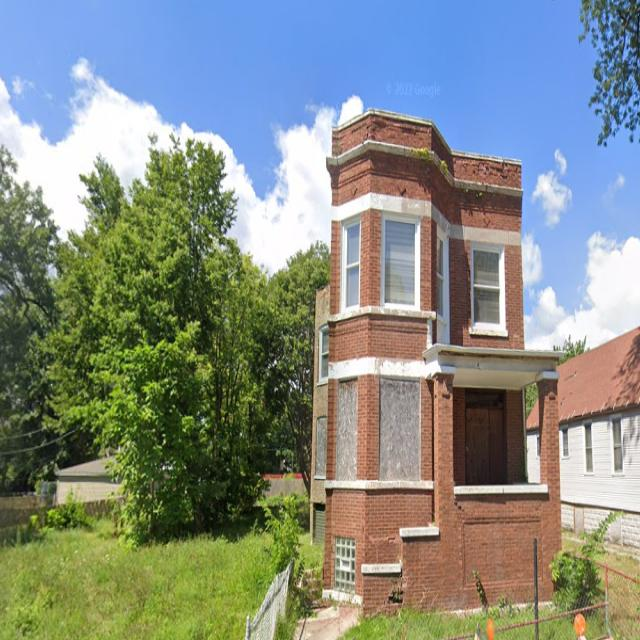House: (310, 107, 566, 614), (526, 322, 640, 551)
